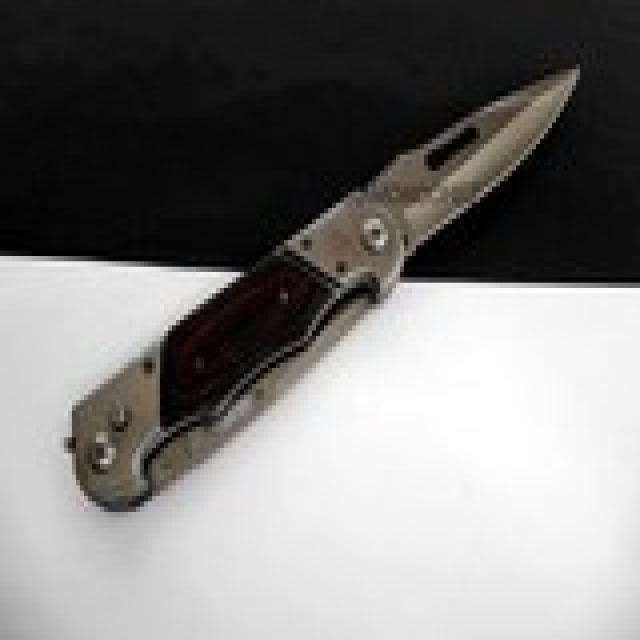Knife: (58, 63, 583, 530)
